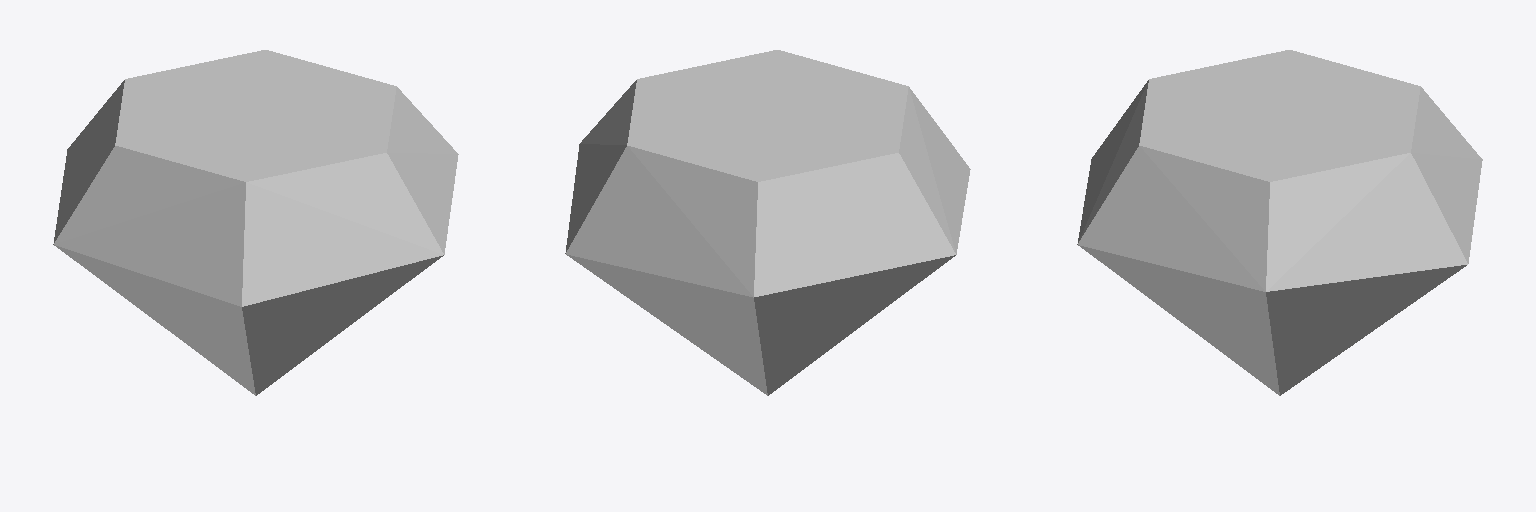
File: Najee_Pellet.obj
3 renders of one model, left to right at view 1: azimuth 30°, elevation 25°; view 2: azimuth 150°, elevation 25°; view 3: azimuth 270°, elevation 25°, orthographic.
Visible parts, largest first — view 1: Pellet.749_Crystal5_Cylinder.750; view 2: Pellet.749_Crystal5_Cylinder.750; view 3: Pellet.749_Crystal5_Cylinder.750.
Part boxes in pixels (x1,y1,x2,y2): Pellet.749_Crystal5_Cylinder.750: (53,50,458,395); Pellet.749_Crystal5_Cylinder.750: (565,50,970,395); Pellet.749_Crystal5_Cylinder.750: (1077,50,1482,395).
Bounding box in the file's own units: 0.6292 × 0.4308 × 0.5646.